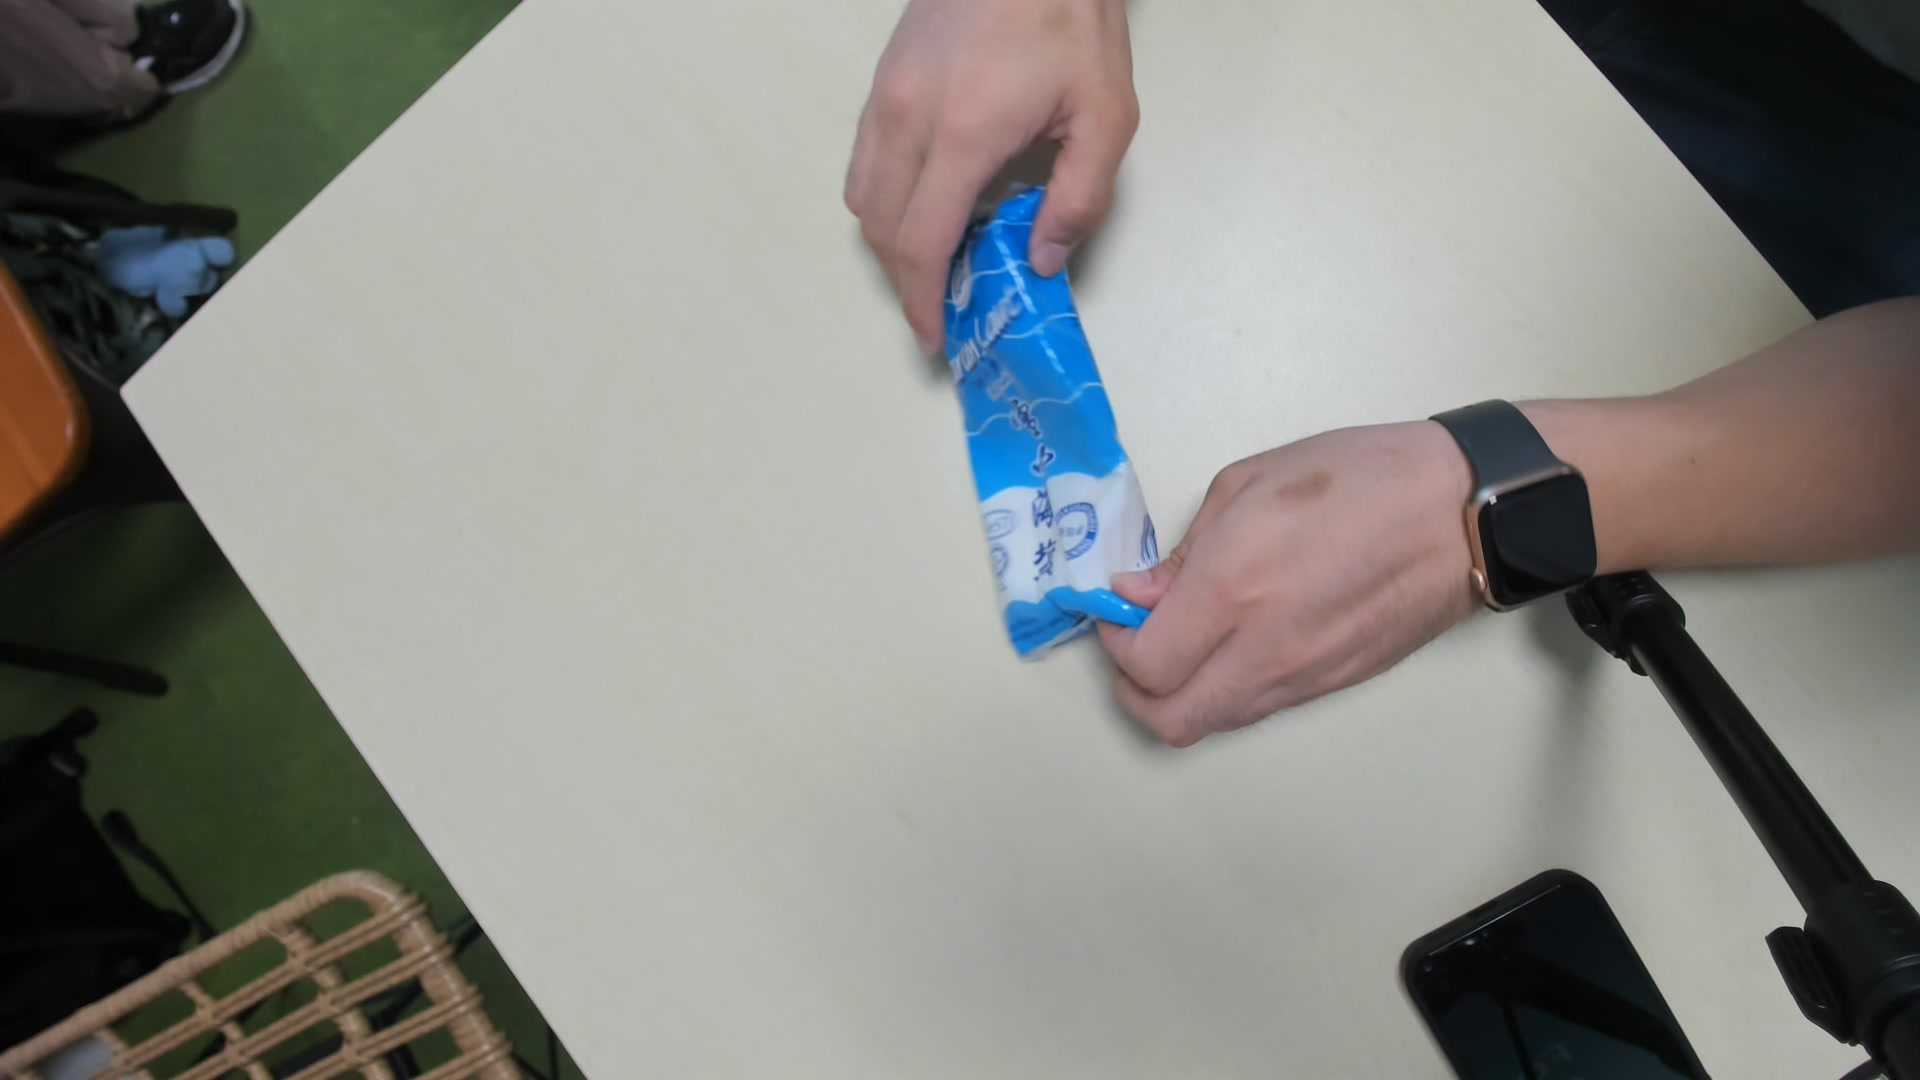Salt_300-399g_NonHalal_NonHealthy: (942, 175, 1163, 669)
